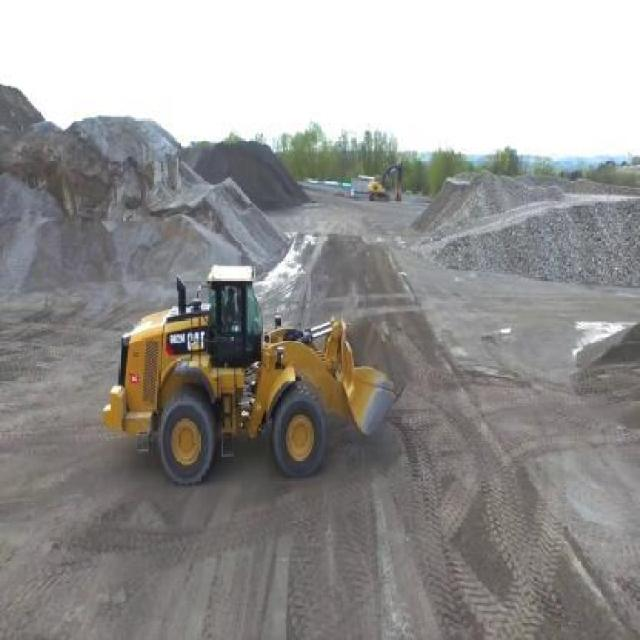buldozerpayloadergrader: (102, 260, 403, 488)
excavator: (367, 156, 402, 202)
